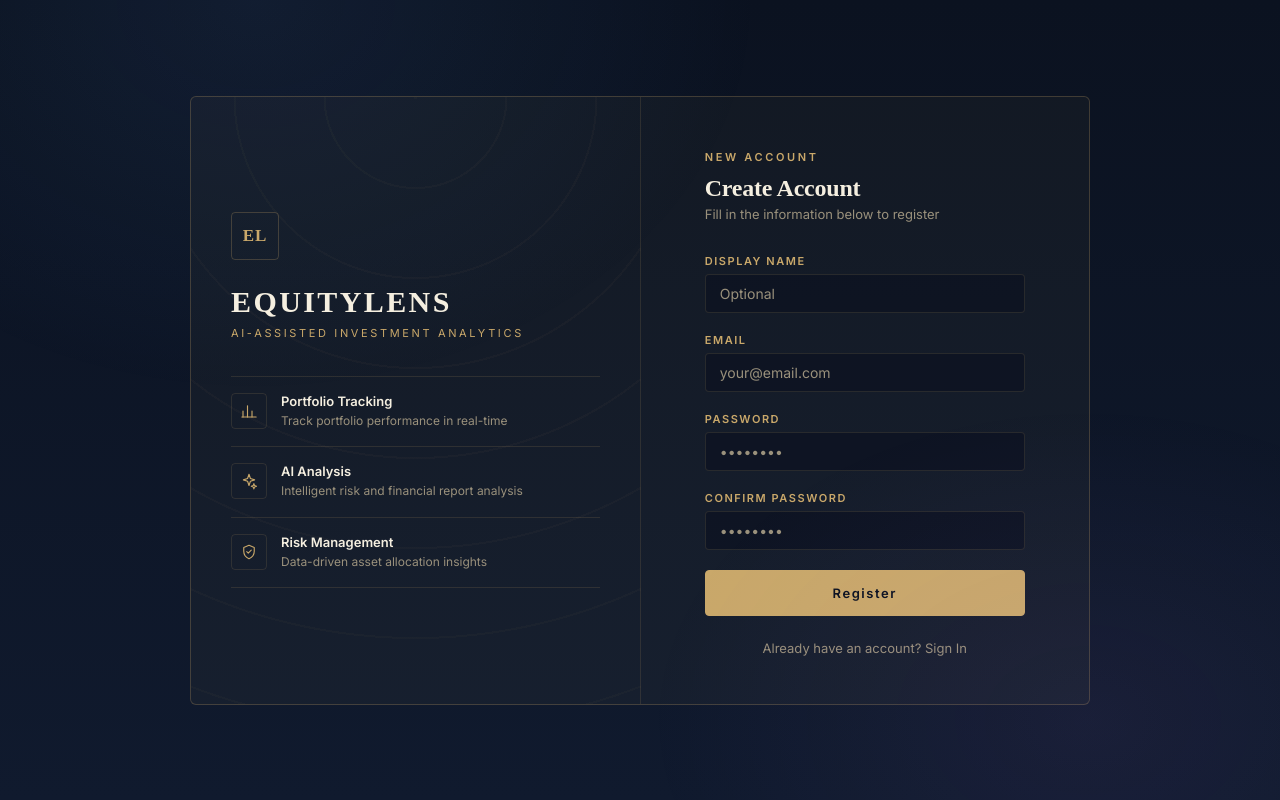
Scenario: RegisterView › shows email taken error on 409
The image size is (1280, 800).
Type "test@test.com" into the field with placeholder "your@email.com" at (865, 372), box [705,352,1025,392]
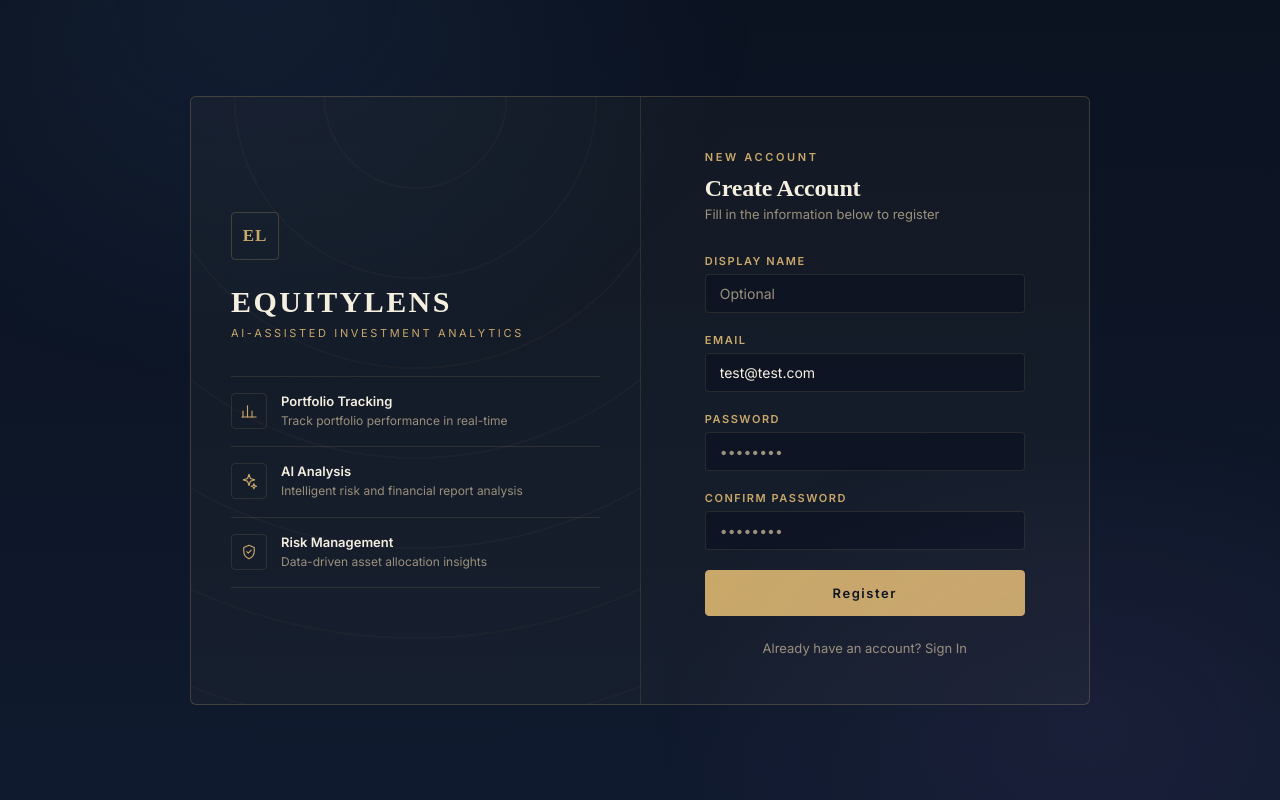
Type "password123" into the 1st password field with placeholder "••••••••" at (865, 451), box [705,432,1025,470]
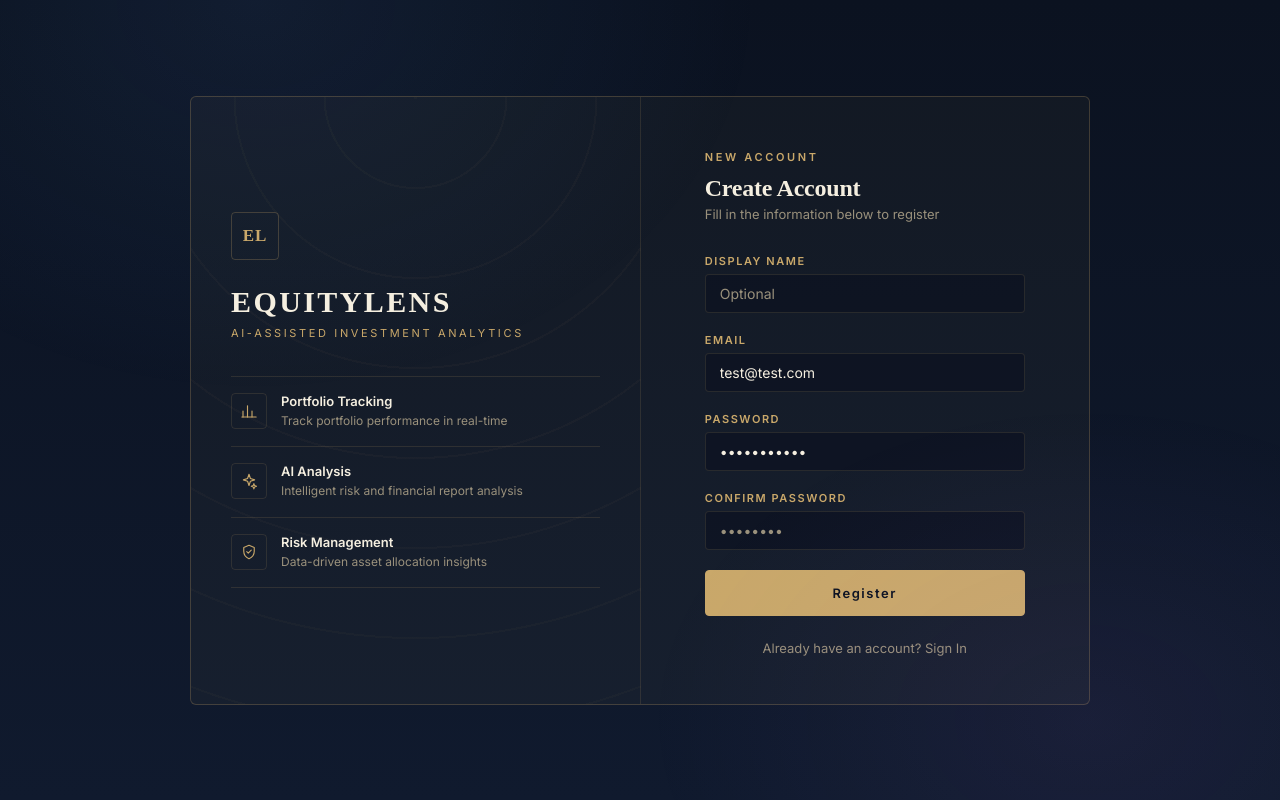
Type "password123" into the password field with placeholder "••••••••" at (865, 530), box [705,510,1025,550]
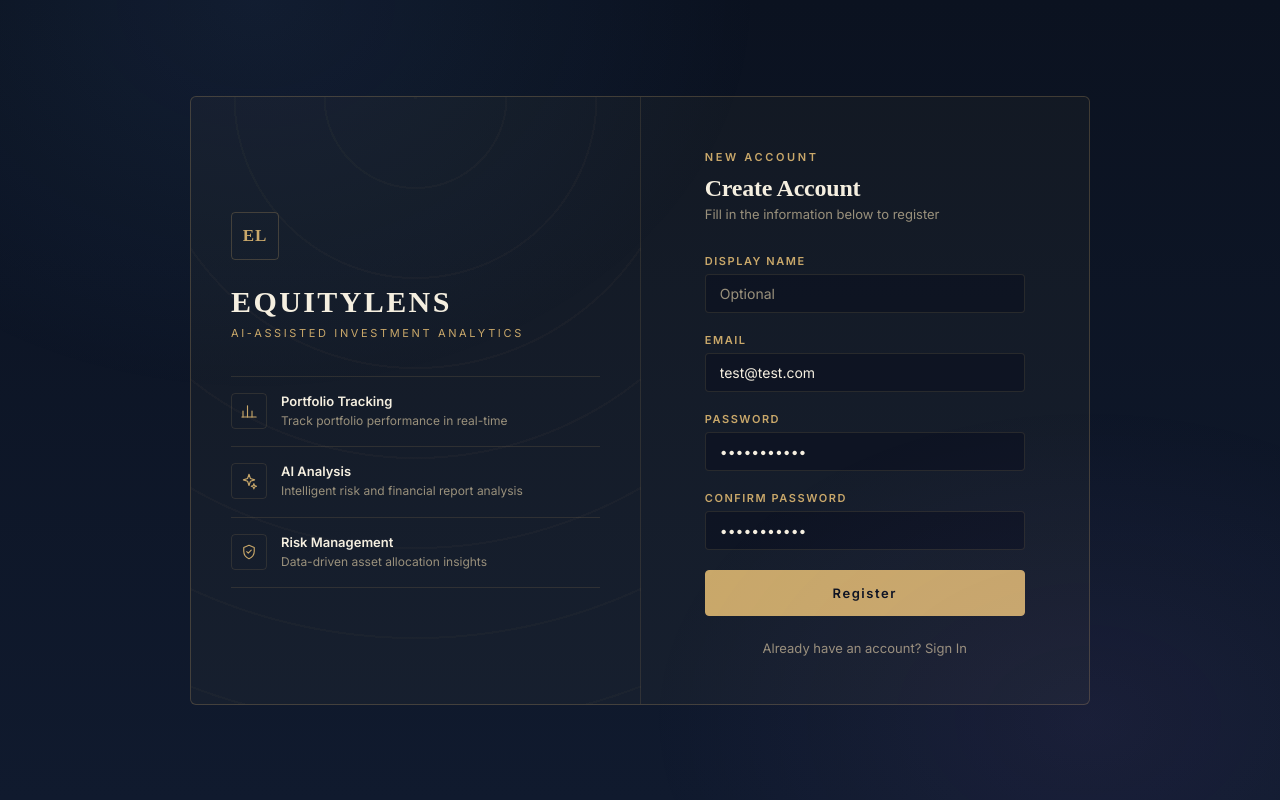
Submit the form, box [705,254,1025,616]
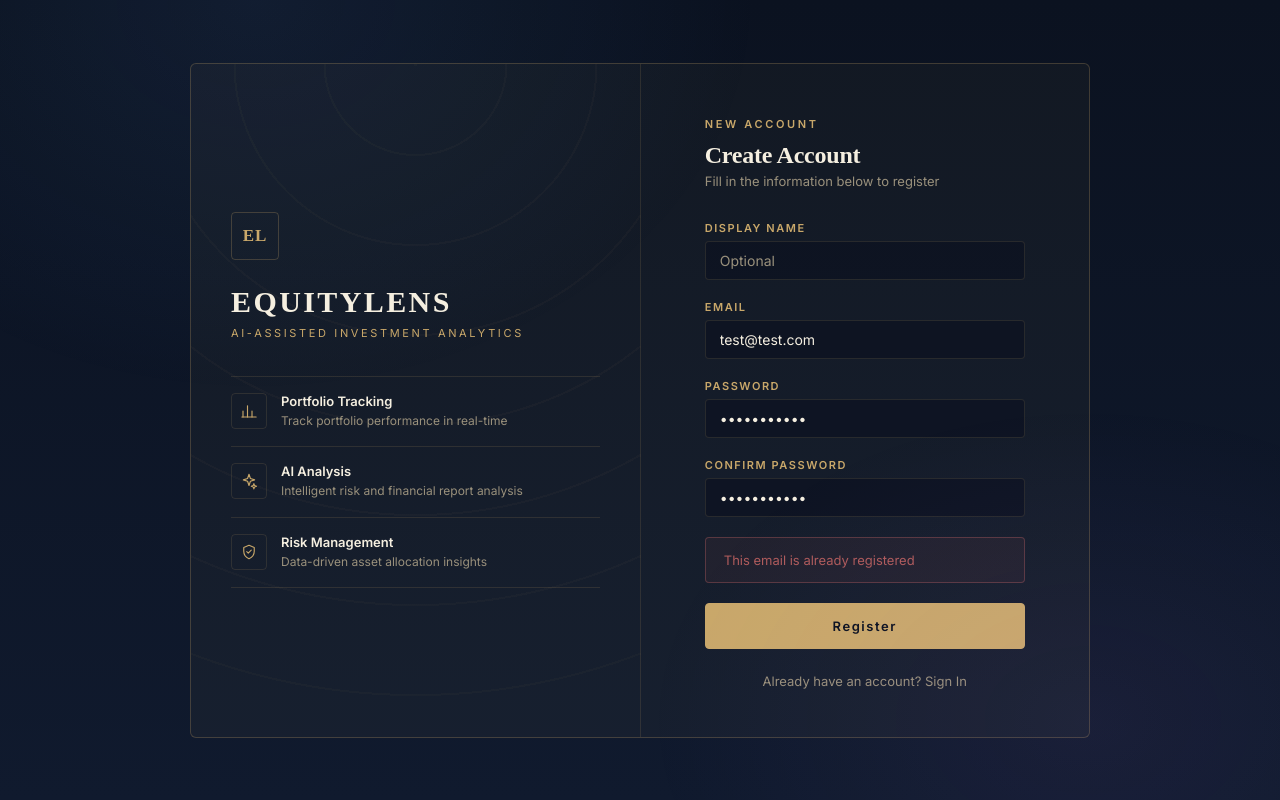
Expected: the text "This email is already registered" is shown, [705,536,1025,582]
